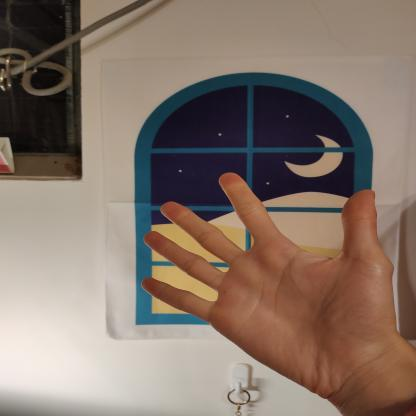bare_hand: (129, 165, 413, 397)
